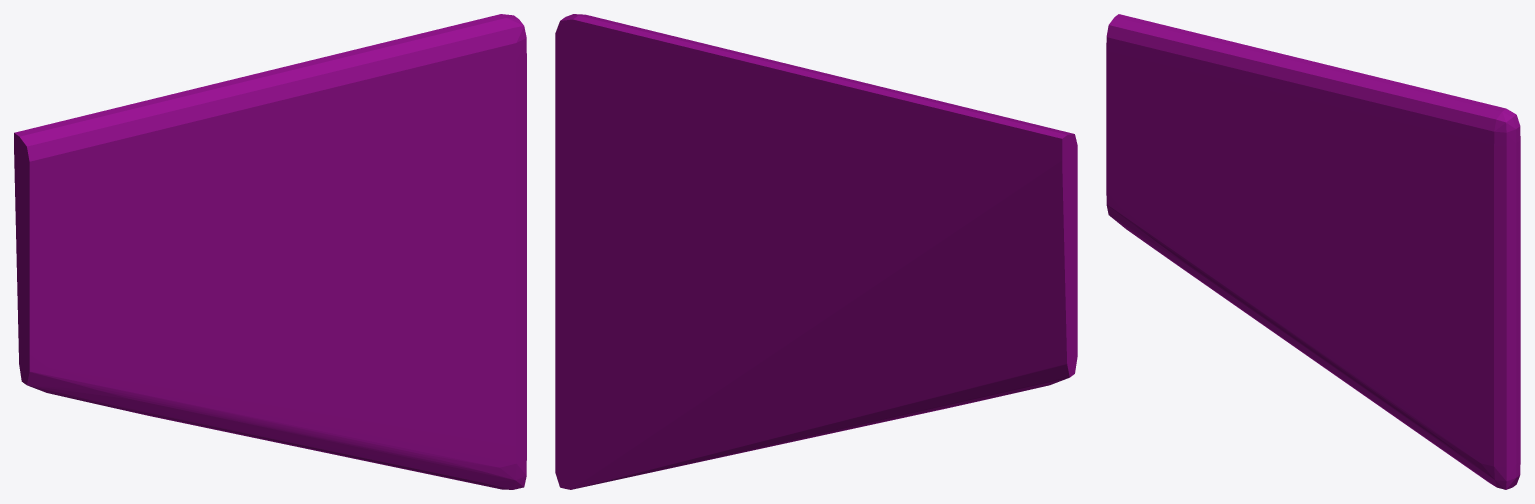
The model's file is right_hip_yaw_link_part_14.obj.
3 renders of one model, left to right at view 1: azimuth 30°, elevation 25°; view 2: azimuth 150°, elevation 25°; view 3: azimuth 330°, elevation 25°, orthographic. The views are drawn at different scales.
Bounding box in the file's own units: 0.0371 × 0.033 × 0.00198.
